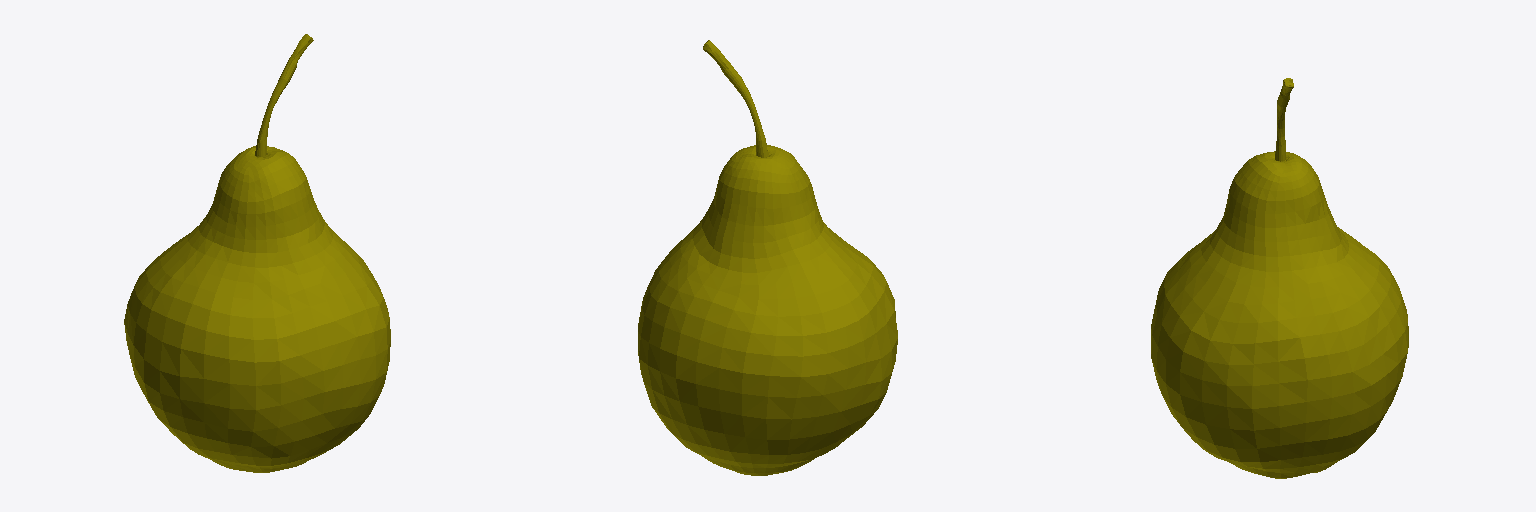
Rendered from pear_tri.obj.
The picture shows the model from 3 angles: view 1: azimuth 30°, elevation 25°; view 2: azimuth 150°, elevation 25°; view 3: azimuth 270°, elevation 25°; orthographic projection.
Parts seen in each view (by area): view 1: pear.002_Cube.002; view 2: pear.002_Cube.002; view 3: pear.002_Cube.002.
Boxes of the visible parts, box(x1,y1,x2,y2) form: pear.002_Cube.002: box(124, 34, 390, 472); pear.002_Cube.002: box(638, 40, 897, 475); pear.002_Cube.002: box(1151, 78, 1408, 478).
Bounding box in the file's own units: 3.29 × 5.72 × 3.26.